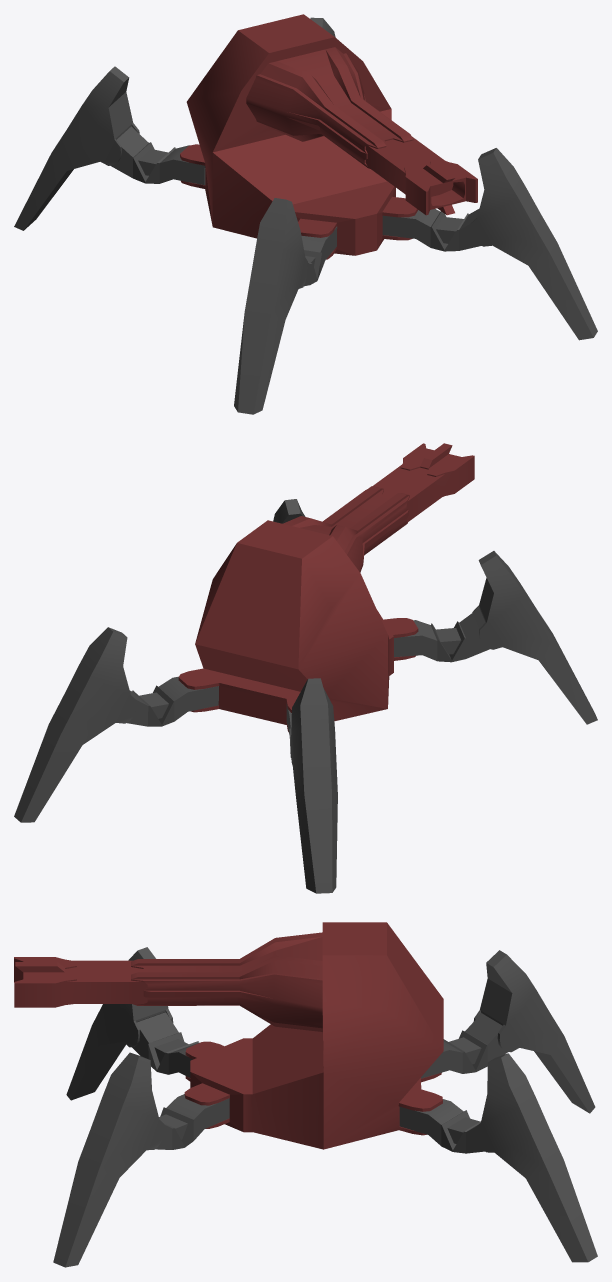
The model's file is MediumSpiderDrone.fbx.
3 renders of one model, top to bottom at view 1: azimuth 30°, elevation 25°; view 2: azimuth 150°, elevation 25°; view 3: azimuth 270°, elevation 25°, orthographic. The views are drawn at different scales.
Parts seen in each view (by area): view 1: TankChasis, FR_LowerLeg, FL_LowerLeg, BR_LowerLeg, BR_UpperLeg, FL_UpperLeg, FR_UpperLeg; view 2: TankChasis, BL_LowerLeg, BR_LowerLeg, FR_LowerLeg, FR_UpperLeg, BL_UpperLeg; view 3: TankChasis, FL_LowerLeg, BL_LowerLeg, BR_LowerLeg, FR_LowerLeg, BR_UpperLeg, BL_UpperLeg, FR_UpperLeg, FL_UpperLeg.
Part boxes in pixels (box(x1,y1,x2,y2)): TankChasis: box(180, 14, 477, 259); FR_LowerLeg: box(234, 198, 307, 414); FL_LowerLeg: box(470, 148, 597, 340); BR_LowerLeg: box(14, 66, 139, 230); BR_UpperLeg: box(110, 126, 205, 185); FL_UpperLeg: box(382, 208, 481, 251); FR_UpperLeg: box(301, 226, 337, 286); TankChasis: box(178, 443, 474, 732); BL_LowerLeg: box(14, 627, 137, 822); BR_LowerLeg: box(290, 678, 337, 893); FR_LowerLeg: box(472, 551, 597, 724); FR_UpperLeg: box(394, 608, 489, 662); BL_UpperLeg: box(127, 676, 218, 726); TankChasis: box(14, 922, 443, 1149); FL_LowerLeg: box(53, 1052, 164, 1267); BL_LowerLeg: box(475, 1053, 597, 1262); BR_LowerLeg: box(473, 950, 595, 1113); FR_LowerLeg: box(66, 947, 173, 1100); BR_UpperLeg: box(421, 1013, 507, 1078); BL_UpperLeg: box(399, 1099, 484, 1153); FR_UpperLeg: box(132, 1012, 199, 1077); FL_UpperLeg: box(155, 1094, 229, 1149).
Size of the model in its own units: 315 by 201 by 439.
